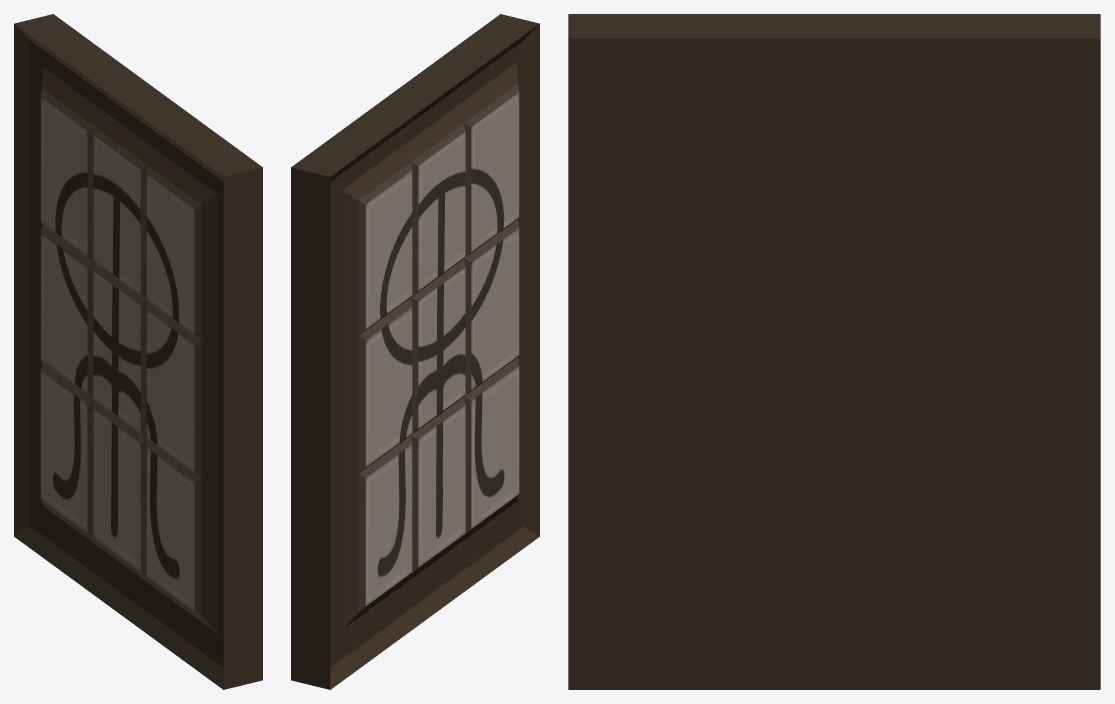
The model's file is MS_Klotski01_Default01.fbx.
The picture shows the model from 3 angles, left to right: view 1: azimuth 30°, elevation 25°; view 2: azimuth 150°, elevation 25°; view 3: azimuth 270°, elevation 25°; orthographic projection. The views are drawn at different scales.
Visible parts, largest first — view 1: MS_Klotski01_Default01; view 2: MS_Klotski01_Default01; view 3: MS_Klotski01_Default01.
Part boxes in pixels (x1,y1,x2,y2): MS_Klotski01_Default01: [14, 14, 262, 689]; MS_Klotski01_Default01: [291, 14, 539, 689]; MS_Klotski01_Default01: [568, 14, 1100, 689].
Size of the model in its own units: 23.41 by 263 by 195.
